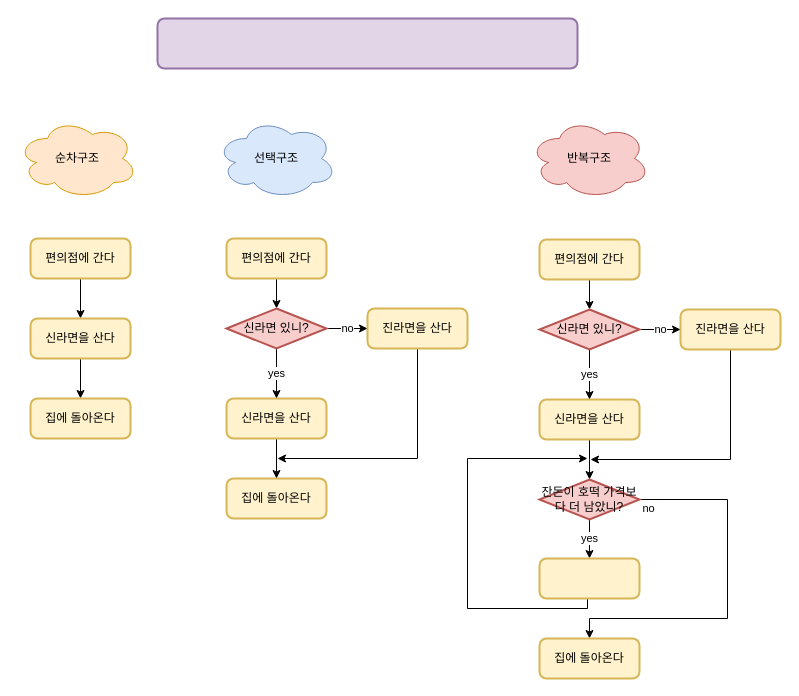
Image size: 799x696. Some labels were removed from this diagram. Here are the shapes that lost their labels. From the top down, the centre of each, then its label:
point (367, 43): 표현방법 3가지
point (589, 578): 호떡을 산다
